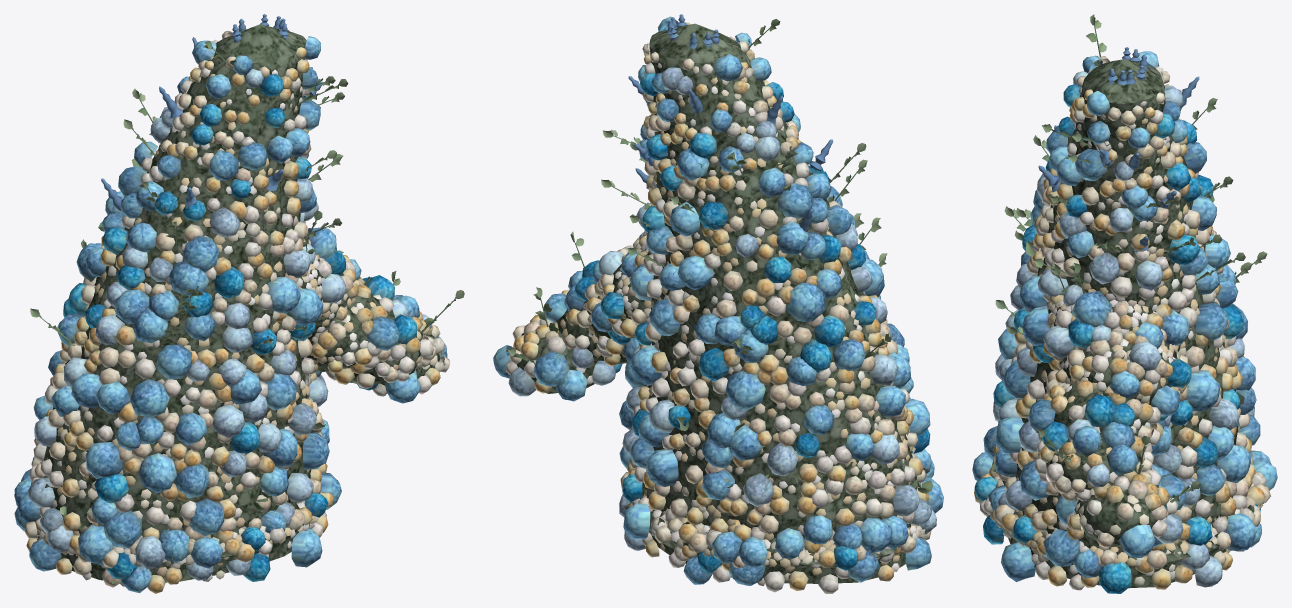
File: installation_hero.glb
3 renders of one model, left to right at view 1: azimuth 30°, elevation 25°; view 2: azimuth 150°, elevation 25°; view 3: azimuth 270°, elevation 25°, orthographic. The views are drawn at different scales.
Parts seen in each view (by area): view 1: installation_hero; view 2: installation_hero; view 3: installation_hero.
Part boxes in pixels (box(x1,y1,x2,y2)): installation_hero: box(14, 14, 464, 593); installation_hero: box(493, 14, 943, 593); installation_hero: box(972, 14, 1277, 593).
Bounding box in the file's own units: 2.9 × 3.36 × 1.74.
1 material, 1 textured.
